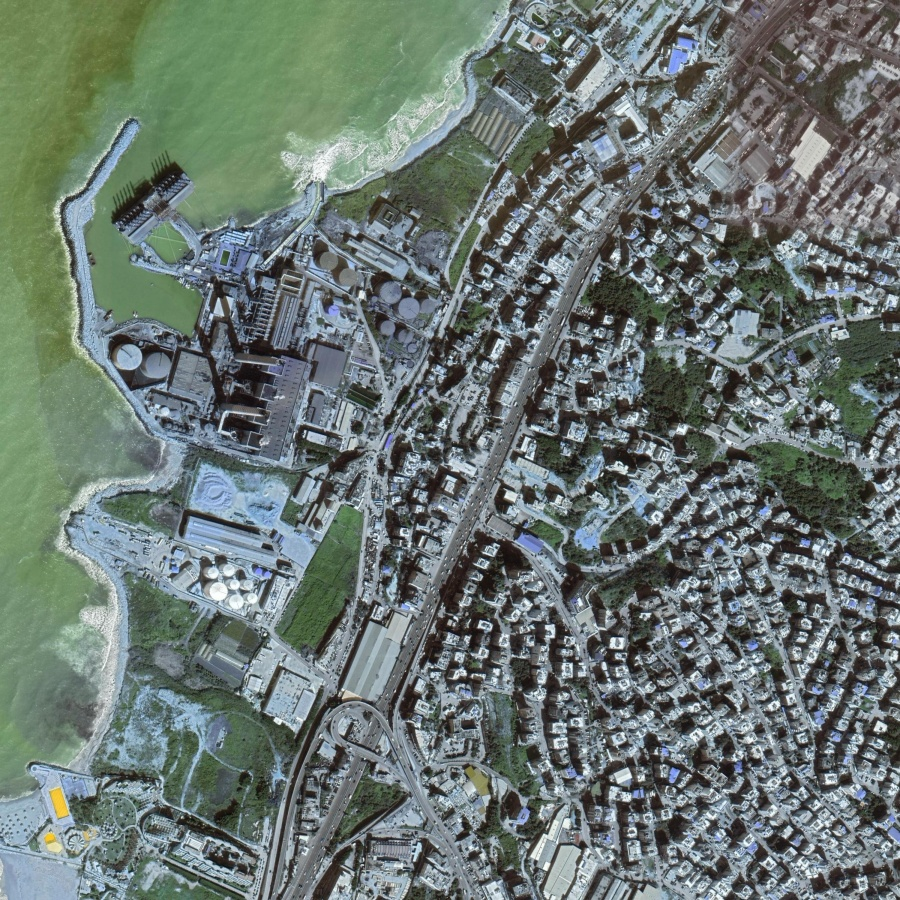PowerPlant: (100, 176, 445, 607)
